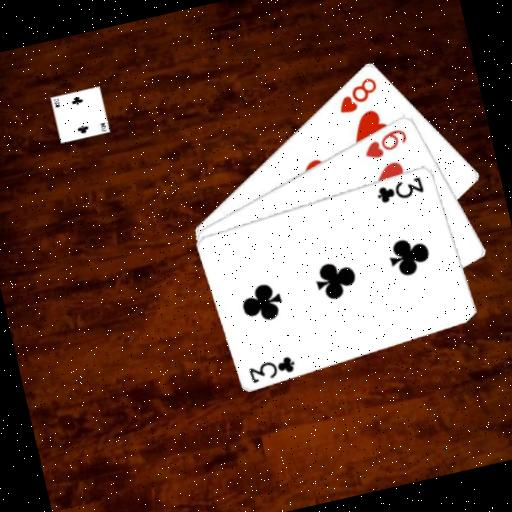3C: (372, 172, 427, 206), (244, 352, 299, 386)
6H: (358, 124, 412, 163)
8H: (330, 72, 384, 117)
